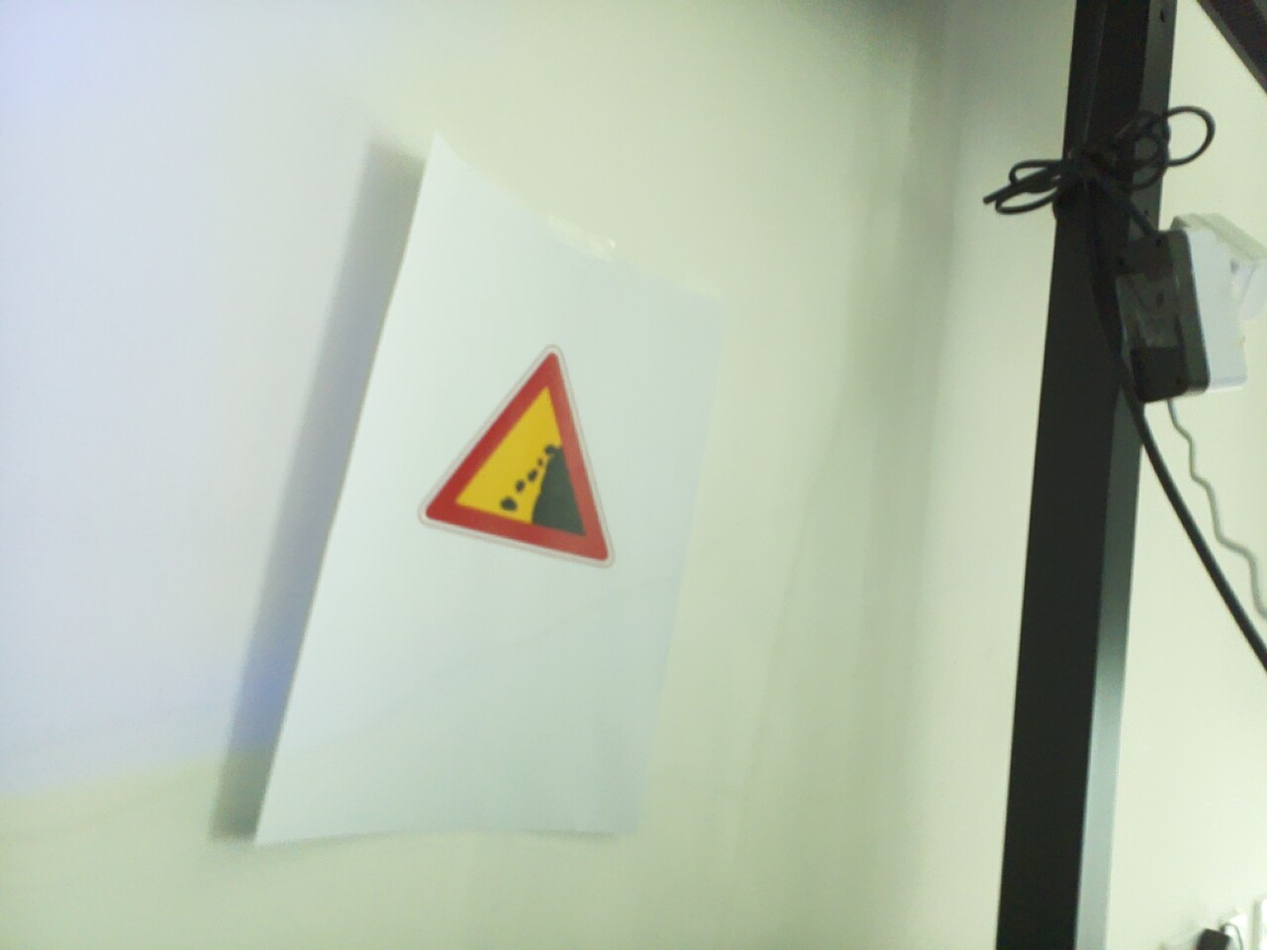falling_rocks: (1119, 0, 1267, 713)
